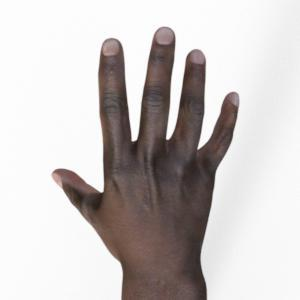paper: (53, 28, 238, 300)
